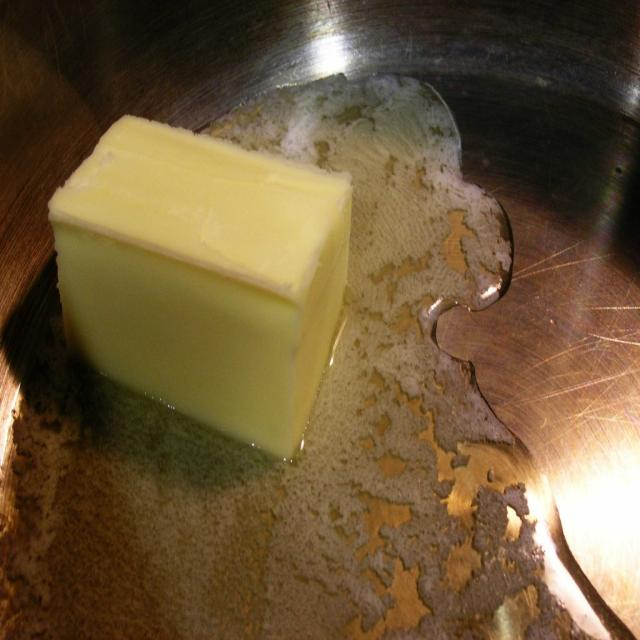Butter: (51, 119, 351, 468)
